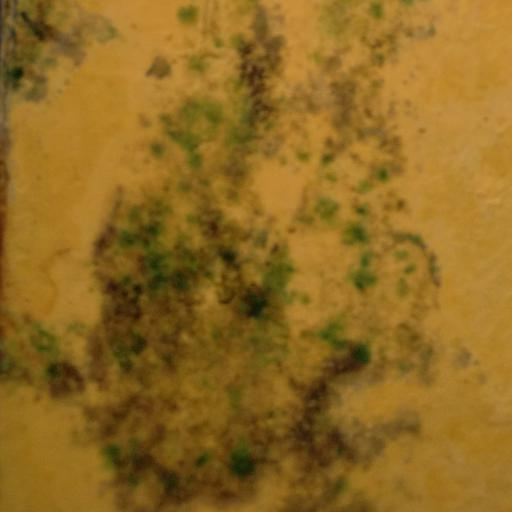algae: (45, 13, 450, 512)
